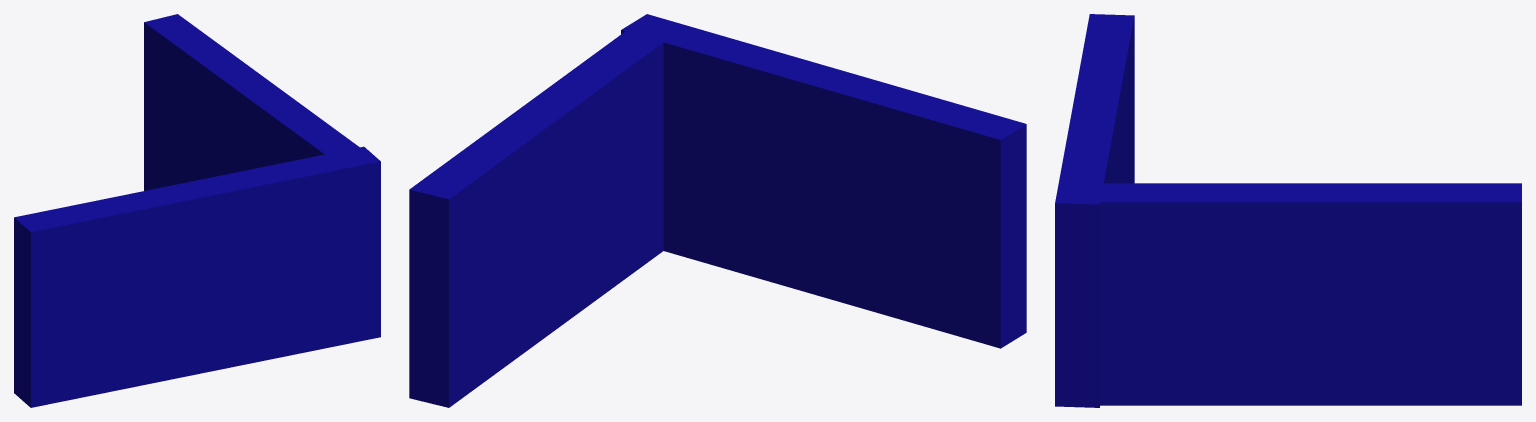
File: testWalls.dae
3 views of the same model, side by side, from view 1: azimuth 30°, elevation 25°; view 2: azimuth 150°, elevation 25°; view 3: azimuth 270°, elevation 25° (orthographic). The views are drawn at different scales.
Visible parts, largest first — view 1: wall_collision (×2); view 2: wall_collision (×2); view 3: wall_collision (×2).
Boxes of the visible parts, <box> form: wall_collision (×2): <box>14,14,380,407</box>; wall_collision (×2): <box>409,14,1026,407</box>; wall_collision (×2): <box>1055,14,1521,407</box>.
Bounding box in the file's own units: 10.23 × 5.09 × 10.59.
